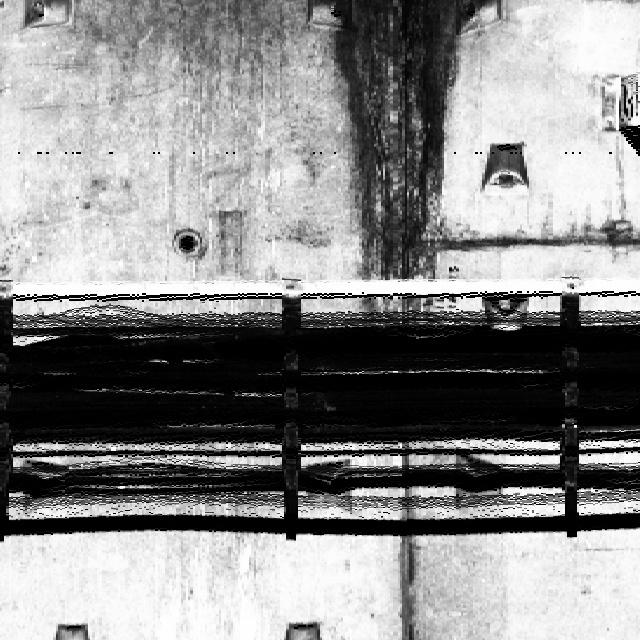leakage: (333, 0, 476, 278)
